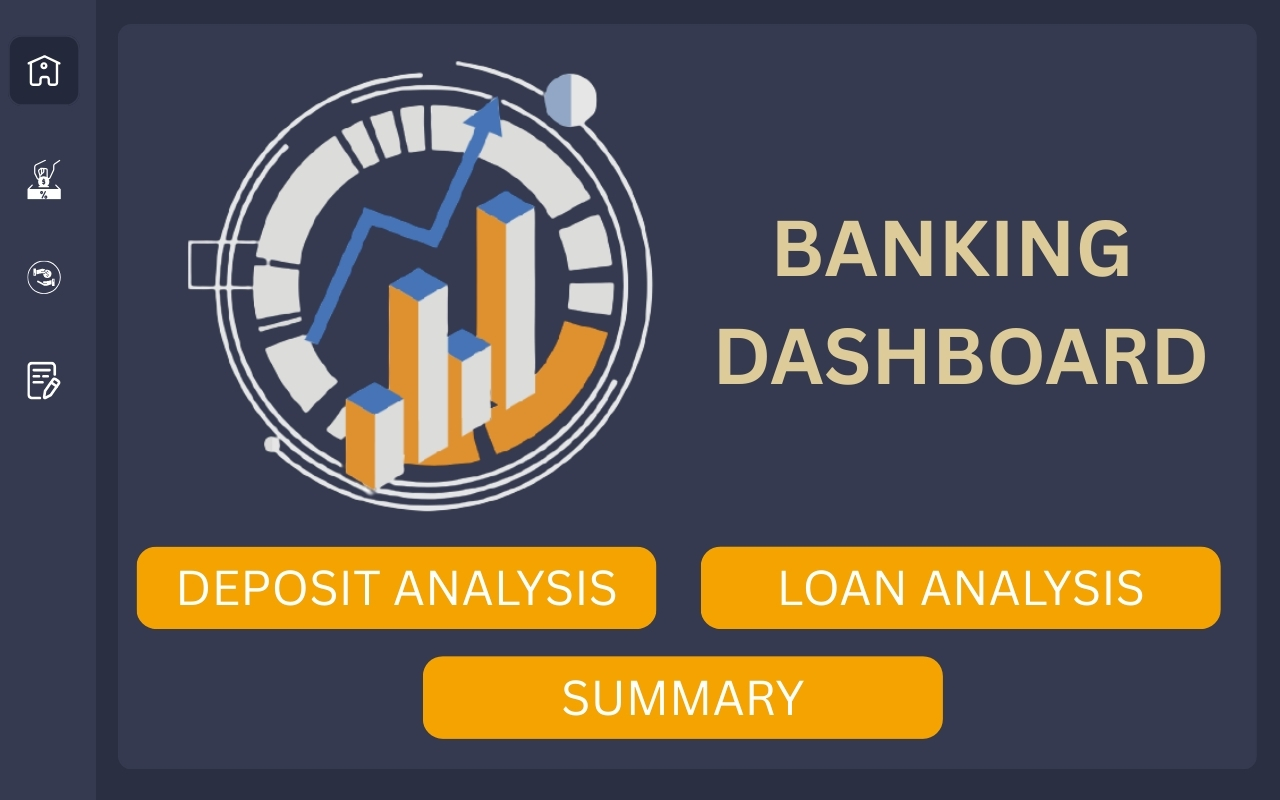

Layout of this report page (visuals, bound fields, positions):
{"tool":"powerbi","page":{"name":"Home","canvas":[1280,720],"ordinal":0},"visuals":[{"type":"actionButton","box":[10,128.9,70.2,63],"z":0},{"type":"actionButton","box":[8.6,31.5,70.2,63],"z":1000},{"type":"actionButton","box":[11.5,219.1,70.2,63],"z":2000},{"type":"actionButton","box":[137.5,491.2,517,74.5],"z":3000},{"type":"actionButton","box":[423.9,588.6,519.8,73],"z":4000},{"type":"actionButton","box":[701.7,491.2,519.8,74.5],"z":5000},{"type":"actionButton","box":[8.6,309.3,70.2,63],"z":6000}]}

Visuals, with their boxes on the page's 1280x720 design canvas (x1, y1, x2, y2). These are canvas units, not pixel positions in the 1280x800 screenshot, which may show the page scaled, cropped or inside an application window:
actionButton: l=10, t=129, r=80, b=192
actionButton: l=9, t=32, r=79, b=94
actionButton: l=12, t=219, r=82, b=282
actionButton: l=138, t=491, r=654, b=566
actionButton: l=424, t=589, r=944, b=662
actionButton: l=702, t=491, r=1222, b=566
actionButton: l=9, t=309, r=79, b=372
